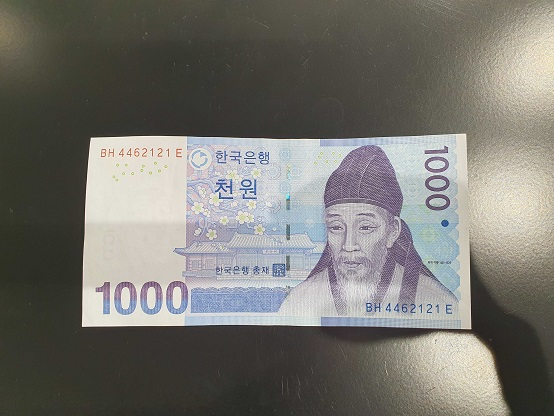1000won: (79, 130, 473, 334)
